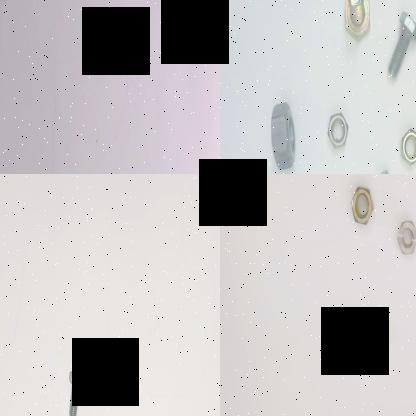Bolts: (381, 0, 416, 77), (341, 0, 371, 51), (59, 366, 87, 416)
NUTS: (266, 94, 296, 174), (322, 102, 352, 152), (346, 180, 375, 228), (393, 215, 416, 256), (398, 121, 416, 169), (367, 312, 384, 348)
